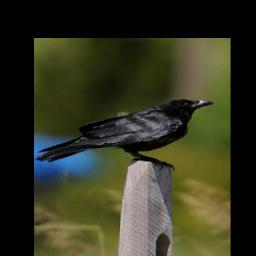Crow: (34, 97, 215, 172)
